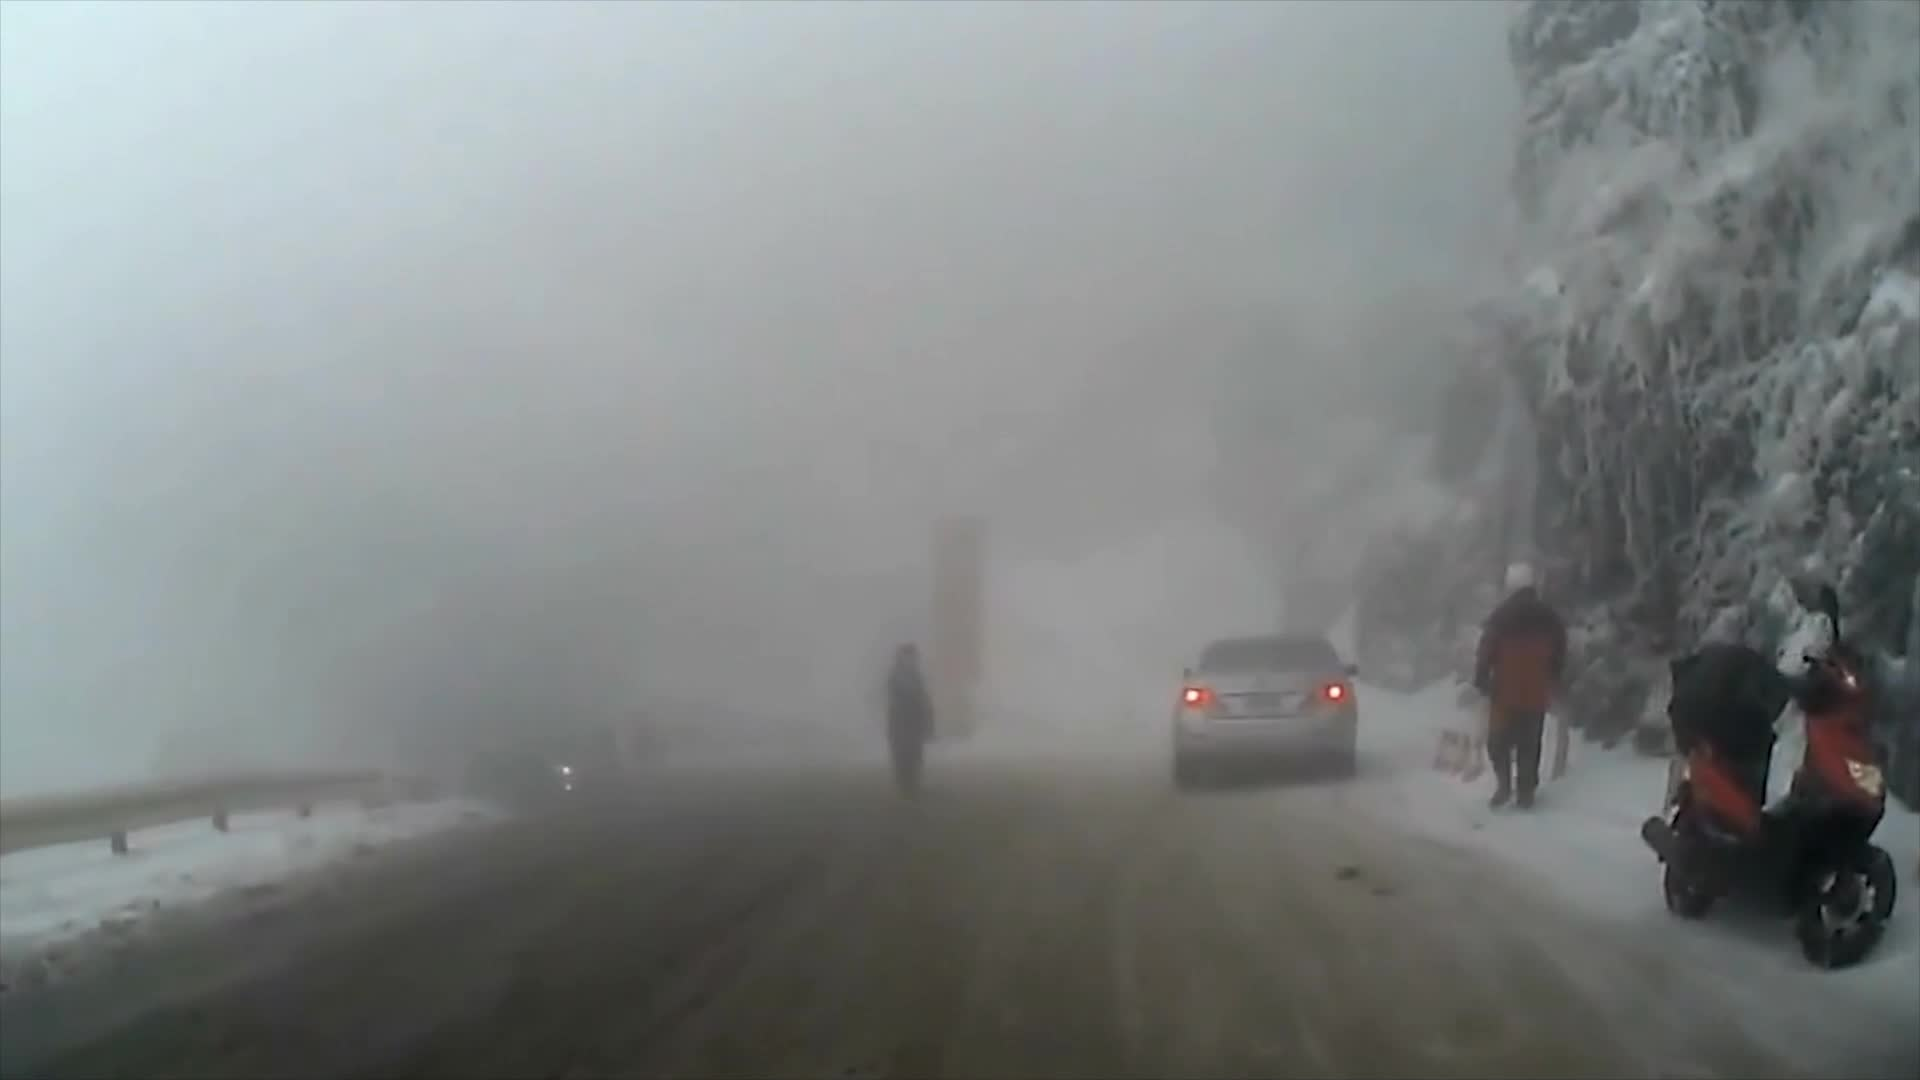pedestrian: (1473, 563, 1578, 816), (881, 643, 933, 808)
vehicle: (1171, 634, 1364, 792)
